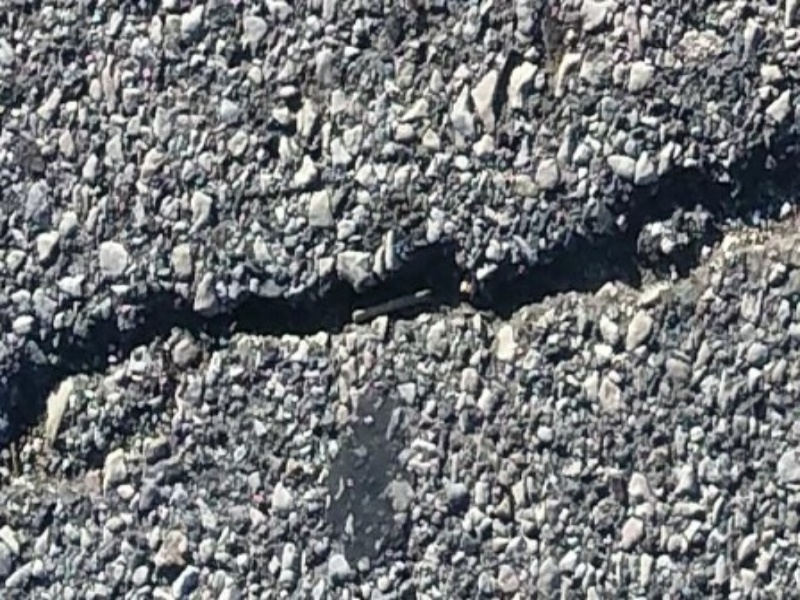crack: (1, 133, 793, 435)
